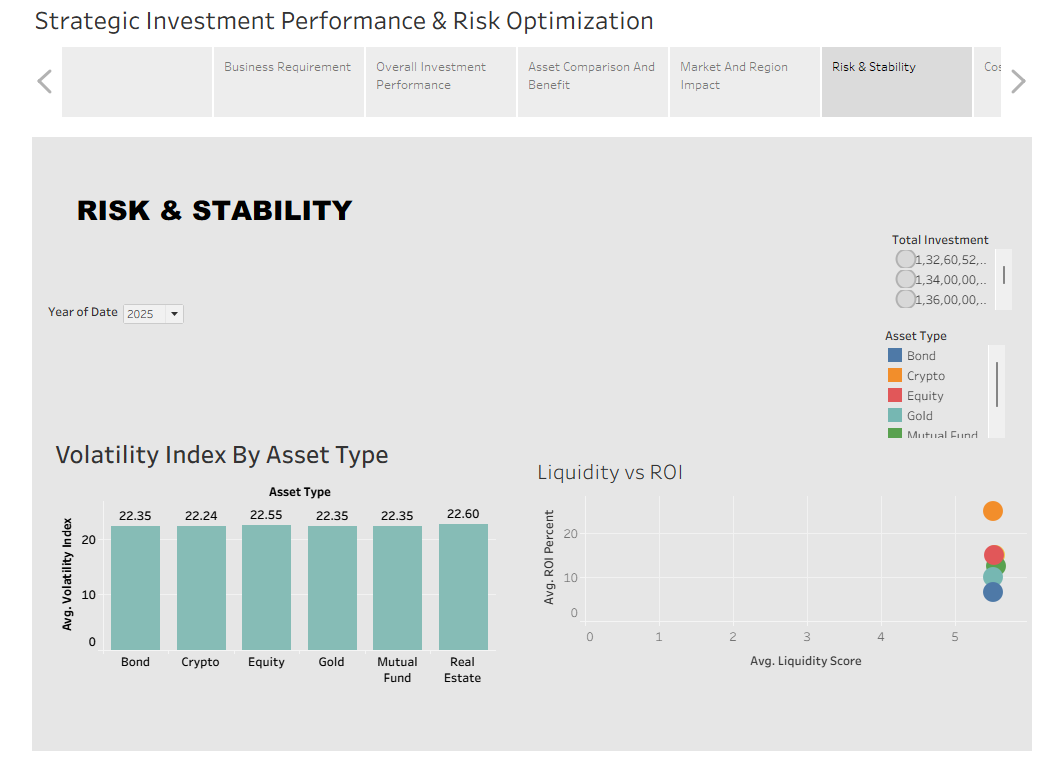

Layout of this report page (visuals, bound fields, positions):
{"tool":"tableau","page":{"name":"RISK & STABILITY","canvas":[1000,1000],"units":"permille","ordinal":6},"visuals":[{"type":"text","box":[41.7,67.1,487.8,102.6]},{"type":"legend","title":"Liquidity vs ROI","param":"[federated.1wwh79u1fpuqpj1ba0z2k0fuhllu].[usr:Calculation_0358462931013632:qk]","box":[860,152.6,121.7,128.9]},{"type":"filter","title":"Liquidity vs ROI","param":"[federated.1wwh79u1fpuqpj1ba0z2k0fuhllu].[yr:Date:ok]","box":[15.7,267.1,139.1,57.9]},{"type":"legend","title":"Liquidity vs ROI","param":"[federated.1wwh79u1fpuqpj1ba0z2k0fuhllu].[none:Asset Type:nk]","box":[853,309.2,121.7,181.6]},{"type":"worksheet","title":"Volatility Index By Asset Type","mark":"Automatic","rows":["Volatility Index"],"cols":["Asset Type"],"box":[19.1,481.6,445.2,418.4]},{"type":"worksheet","title":"Liquidity vs ROI","mark":"Circle","rows":["ROI Percent"],"cols":["Liquidity Score"],"box":[500.9,514.5,493.9,363.2]}]}

Visuals, with their boxes on the dashboard's canvas, which has no fixed pixel size, in thousandths of its width and height (x1, y1, x2, y2). These are canvas units, not pixel positions in the 1048x760 screenshot, which may show the page scaled, cropped or inside an application window:
text: [x1=42, y1=67, x2=530, y2=170]
"Liquidity vs ROI" legend: [x1=860, y1=153, x2=982, y2=282]
"Liquidity vs ROI" filter: [x1=16, y1=267, x2=155, y2=325]
"Liquidity vs ROI" legend: [x1=853, y1=309, x2=975, y2=491]
"Volatility Index By Asset Type" worksheet: [x1=19, y1=482, x2=464, y2=900]
"Liquidity vs ROI" worksheet (Circle marks): [x1=501, y1=514, x2=995, y2=878]
